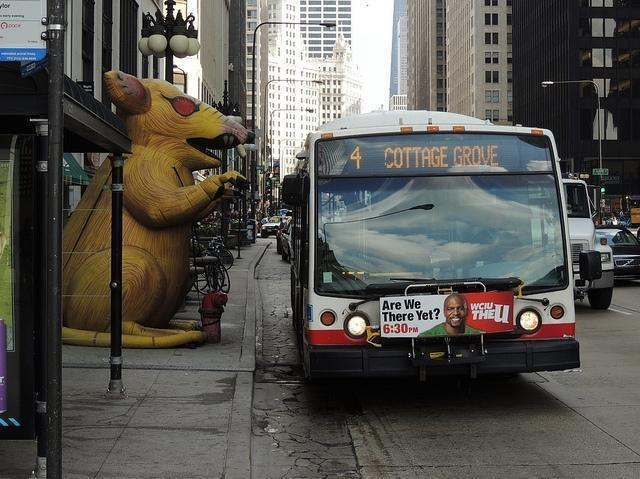bicycle: (193, 263, 230, 295), (203, 241, 234, 271)
bus: (279, 104, 580, 388)
car: (591, 227, 639, 285), (260, 216, 282, 238)
truck: (565, 177, 613, 310)
